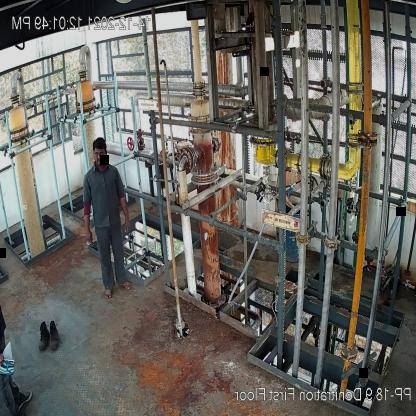no_shoes: (118, 280, 134, 290), (104, 288, 115, 301)
shoes: (46, 319, 60, 352), (37, 322, 49, 350)
